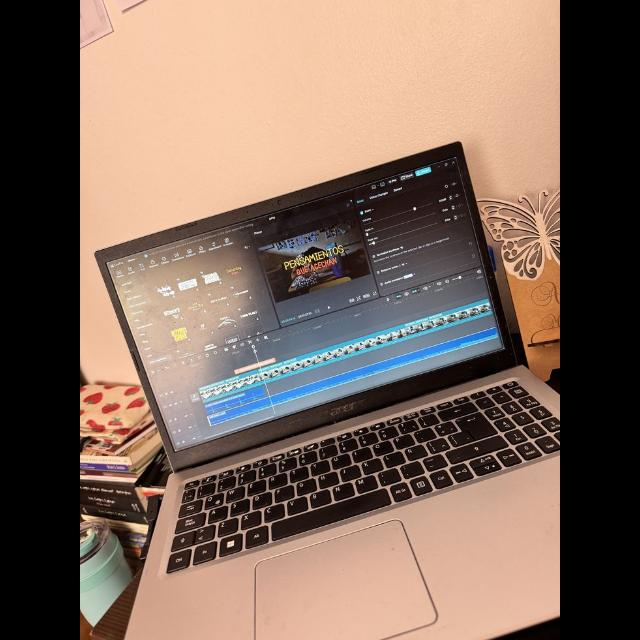laptop: (90, 182, 560, 630)
